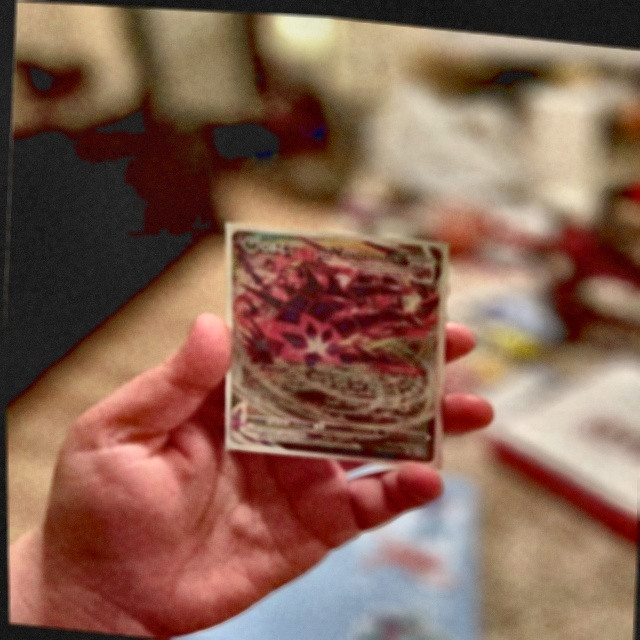card: (227, 226, 444, 459)
